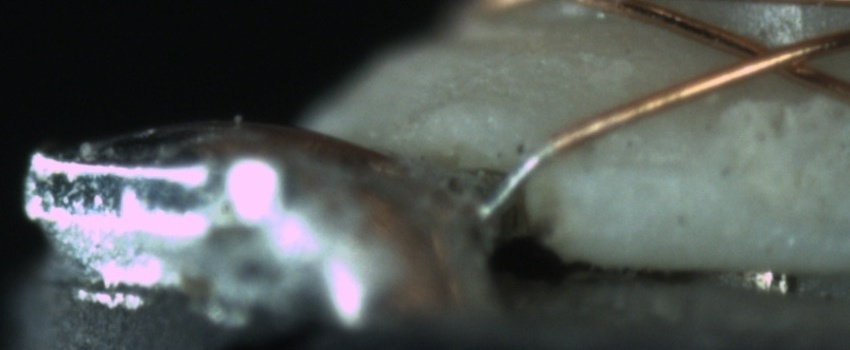CL: (711, 30, 838, 86)
DL: (565, 136, 710, 196)
TS: (479, 140, 561, 221)
TTCW: (483, 118, 593, 218)
